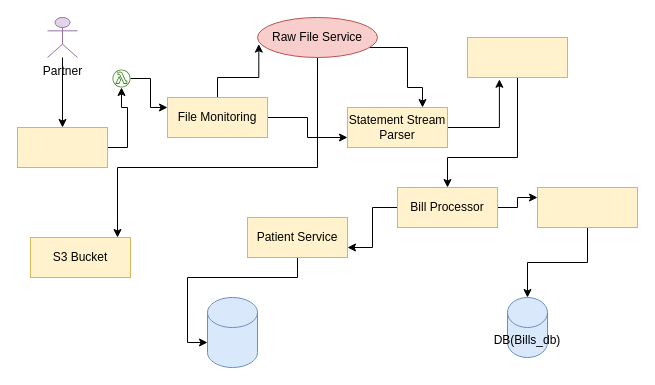
This 655x385 diagram has some shape labels left out. Each missing label, with the box of its shape:
Bill Manager: (536, 186, 638, 228)
Parsers: (466, 36, 568, 78)
Patient pay_v3 schema: (206, 296, 258, 368)
S3 Directory: (16, 126, 108, 168)
